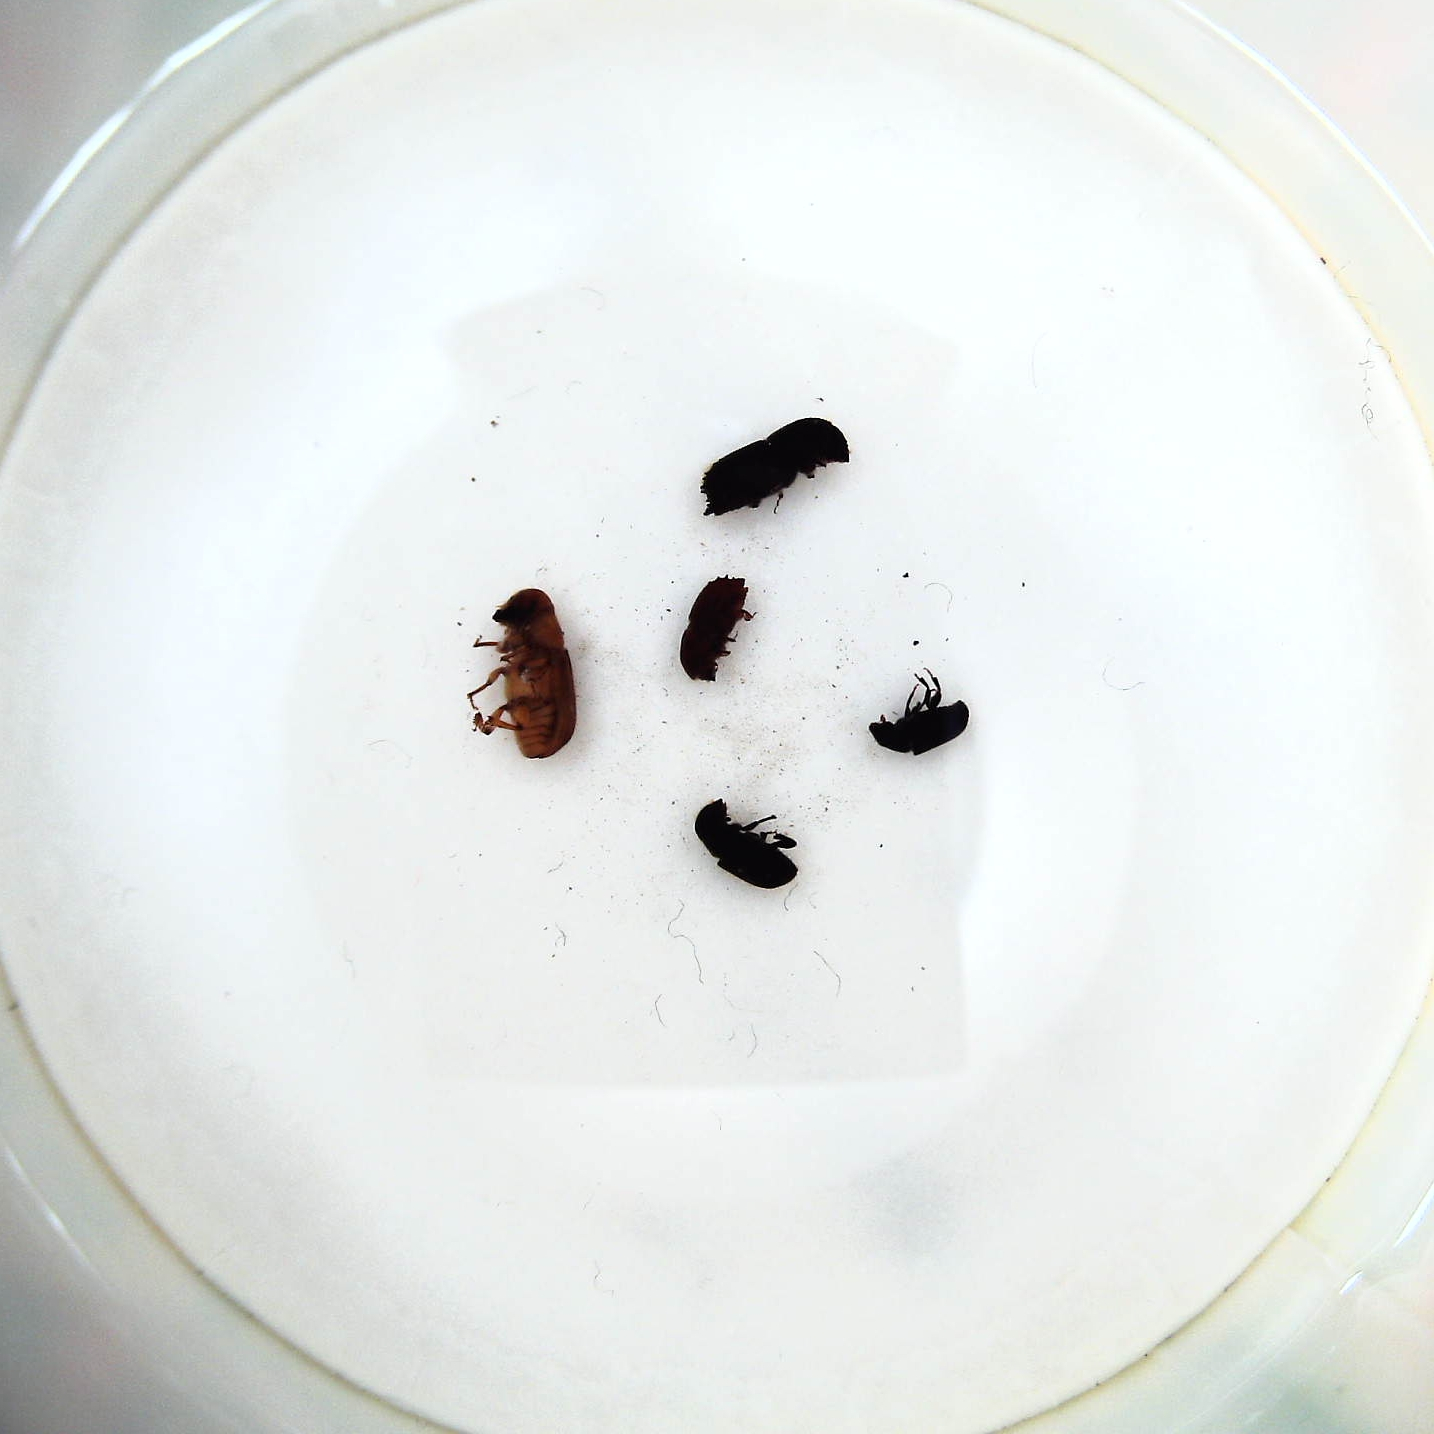Boerner: (697, 415, 854, 520)
Leconte: (464, 590, 580, 768)
armandi: (689, 798, 798, 893)
coleoptera: (868, 668, 973, 756)
linnaeus: (675, 571, 752, 688)
